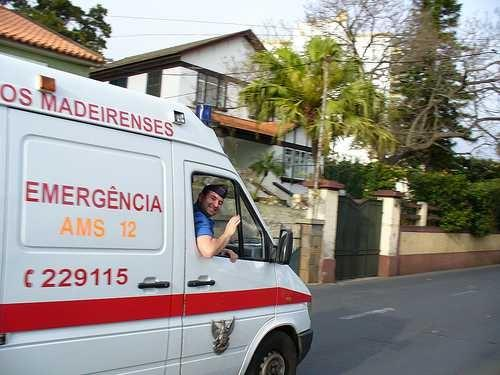car: (0, 51, 313, 374)
